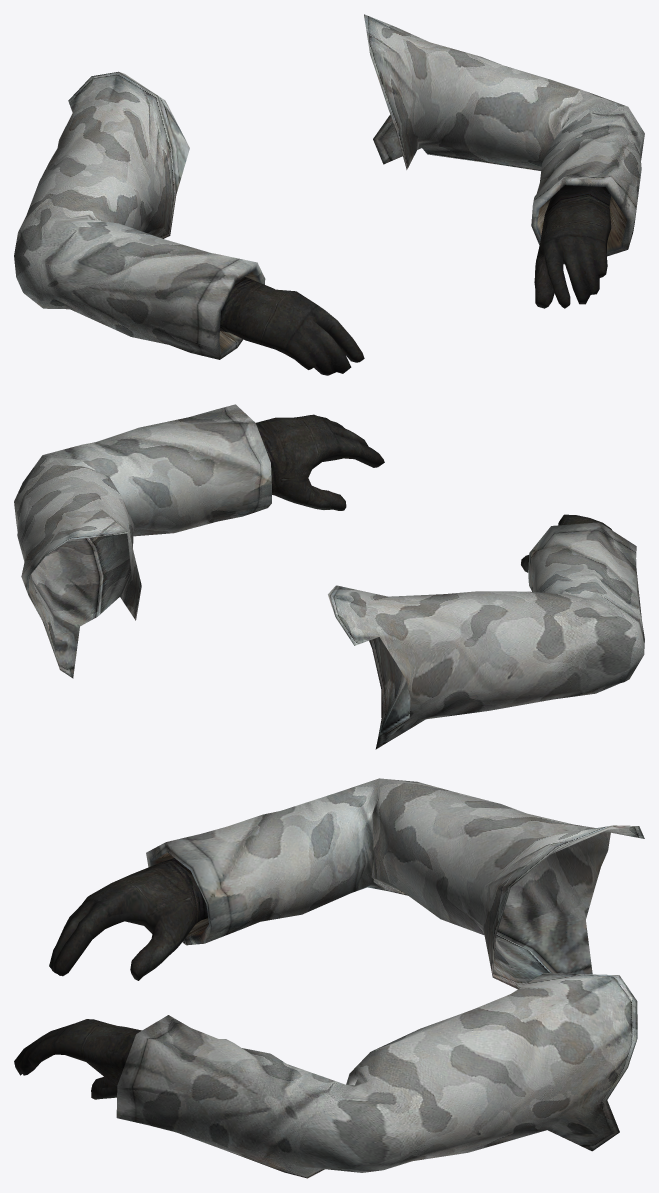
File: Arcitc_T-arms.obj
The picture shows the model from 3 angles, top to bottom: view 1: azimuth 30°, elevation 25°; view 2: azimuth 150°, elevation 25°; view 3: azimuth 270°, elevation 25°; orthographic projection. The views are drawn at different scales.
Visible parts, largest first — view 1: sadasd; view 2: sadasd; view 3: sadasd.
Boxes of the visible parts, x1,y1,x2,y2 form: sadasd: (14,14,644,375); sadasd: (14,404,644,749); sadasd: (14,778,644,1178).
Bounding box in the file's own units: 0.9666 × 0.2293 × 0.7399.
